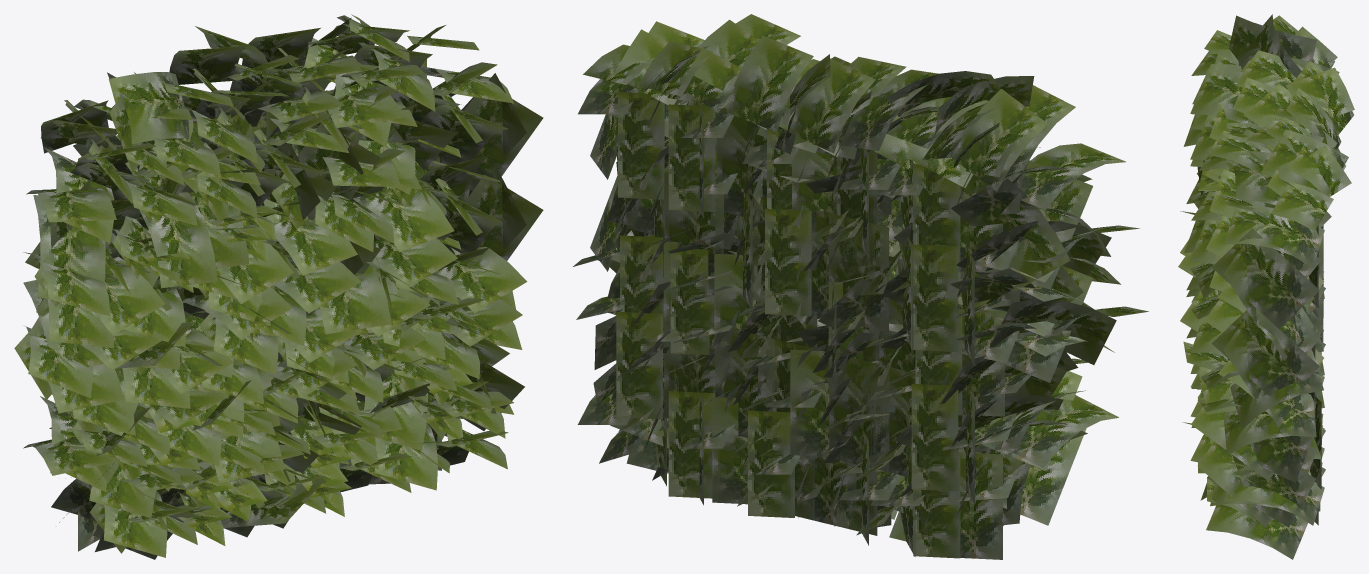
The model's file is sm10_014_boxwood01a.fbx.
The picture shows the model from 3 angles, left to right: view 1: azimuth 30°, elevation 25°; view 2: azimuth 150°, elevation 25°; view 3: azimuth 270°, elevation 25°; orthographic projection. The views are drawn at different scales.
Parts seen in each view (by area): view 1: LOD_1_Group_0_Sub_1__sm10_014_BoxWood01A_A_Mat__AlphaTest; view 2: LOD_1_Group_0_Sub_1__sm10_014_BoxWood01A_A_Mat__AlphaTest; view 3: LOD_1_Group_0_Sub_1__sm10_014_BoxWood01A_A_Mat__AlphaTest.
Part boxes in pixels (bbox=[...]): LOD_1_Group_0_Sub_1__sm10_014_BoxWood01A_A_Mat__AlphaTest: bbox=[14, 14, 543, 559]; LOD_1_Group_0_Sub_1__sm10_014_BoxWood01A_A_Mat__AlphaTest: bbox=[573, 14, 1148, 559]; LOD_1_Group_0_Sub_1__sm10_014_BoxWood01A_A_Mat__AlphaTest: bbox=[1178, 14, 1354, 559].
Bounding box in the file's own units: 2.28 × 2.04 × 0.8053.
